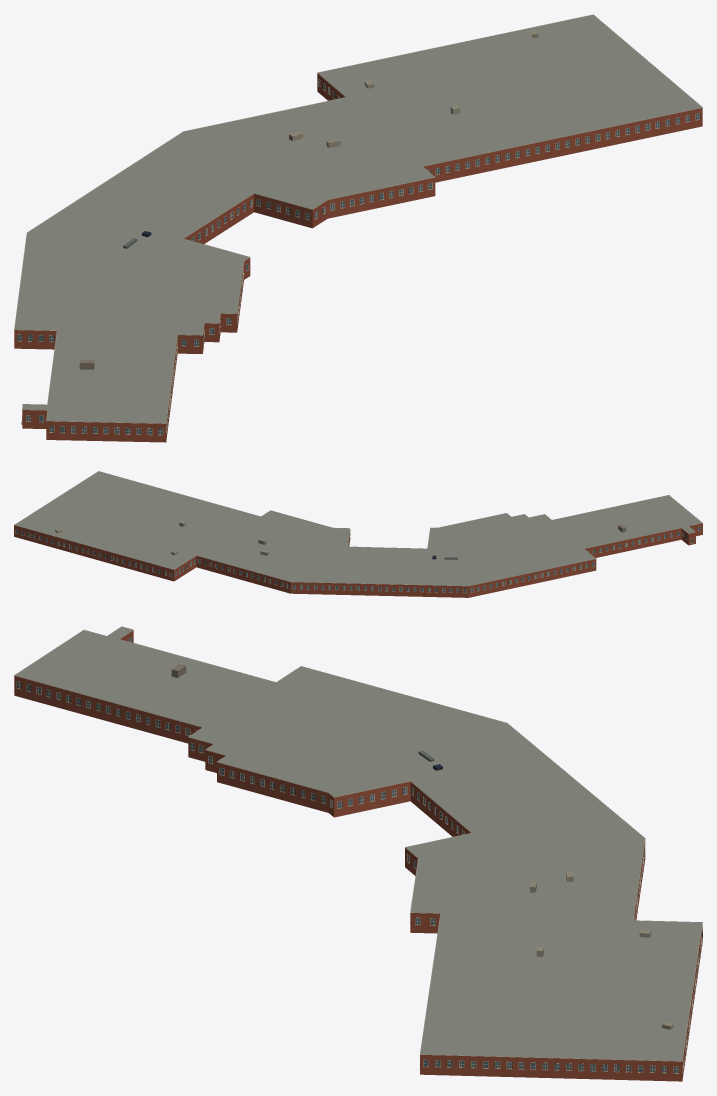
The picture shows the model from 3 angles, top to bottom: view 1: azimuth 30°, elevation 25°; view 2: azimuth 150°, elevation 25°; view 3: azimuth 270°, elevation 25°; orthographic projection. The views are drawn at different scales.
Parts seen in each view (by area): view 1: -6_-2_309459600_0; view 2: -6_-2_309459600_0; view 3: -6_-2_309459600_0.
Boxes of the visible parts, <box> form: -6_-2_309459600_0: <box>14,14,702,442</box>; -6_-2_309459600_0: <box>14,471,702,597</box>; -6_-2_309459600_0: <box>14,626,702,1081</box>.
Bounding box in the file's own units: 330 × 9.55 × 221.
